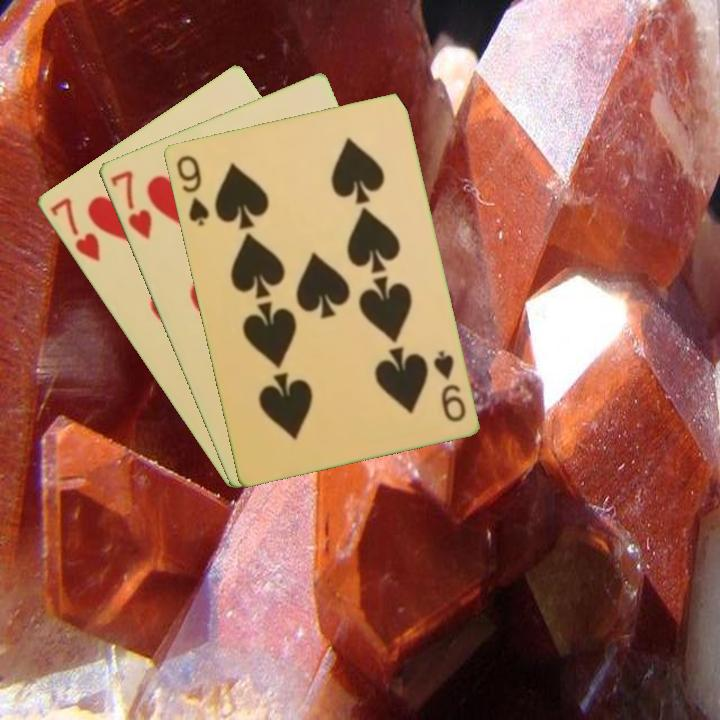7h: (46, 193, 103, 264), (106, 166, 155, 242)
9s: (172, 151, 212, 229), (429, 347, 469, 425)
